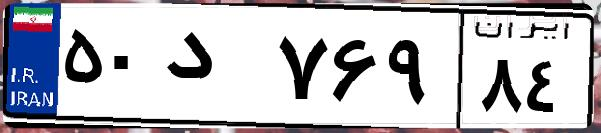0: (110, 28, 158, 98)
4: (525, 38, 570, 115)
5: (57, 26, 110, 100)
6: (330, 28, 385, 110)
7: (270, 28, 330, 110)
8: (475, 38, 525, 113)
9: (385, 28, 445, 110)
د: (158, 20, 270, 120)
